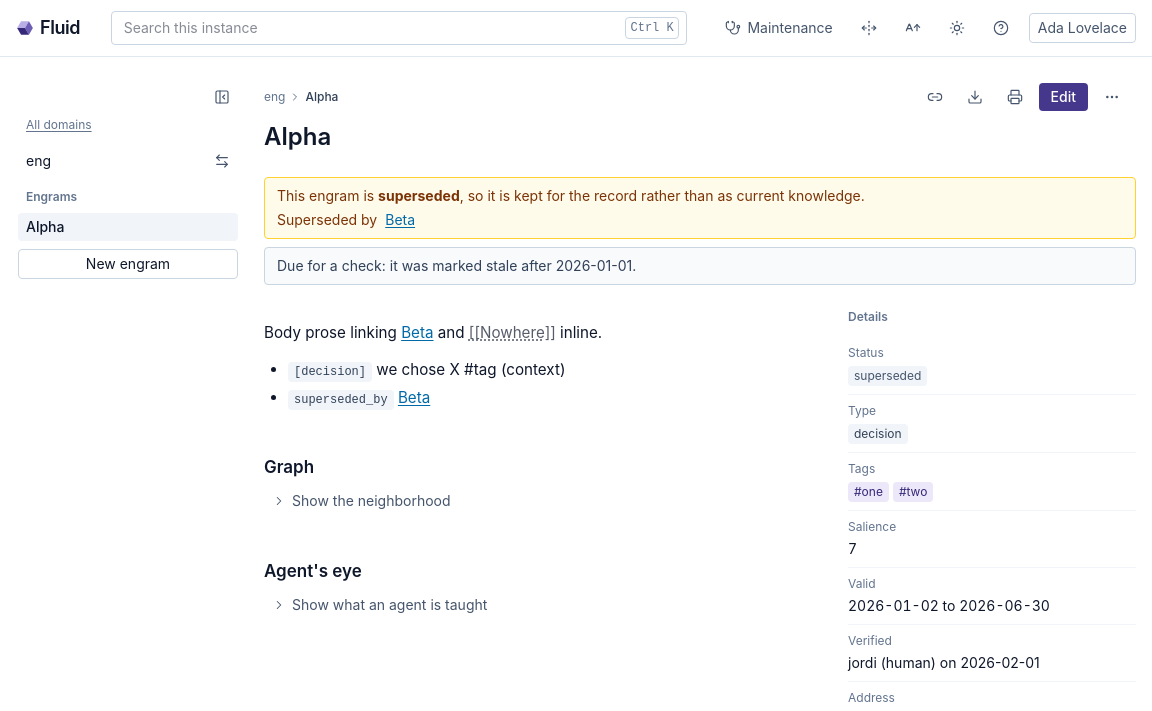
the engram page › names each icon on hover without renaming it
The width and height of the screenshot is (1152, 711).
Hover over the button named "Share link".
mouse_move(935, 97)  # box [919, 81, 951, 113]
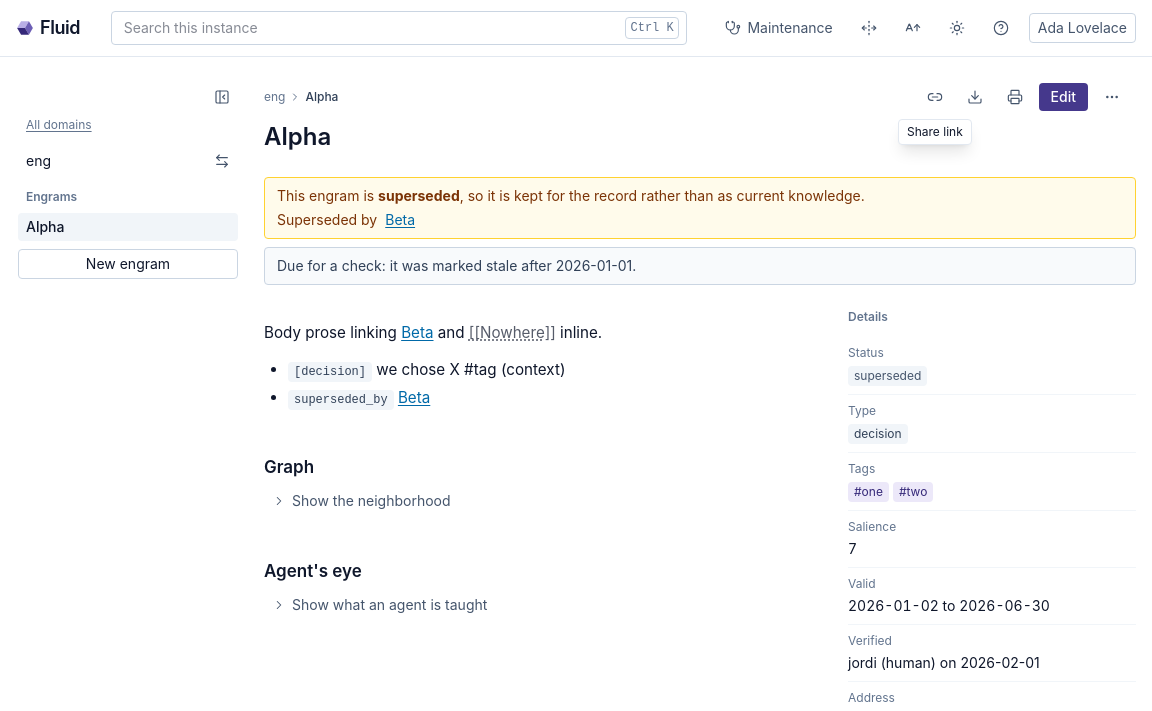
Check: the tooltip reads "Share link", box [907, 124, 963, 139]
